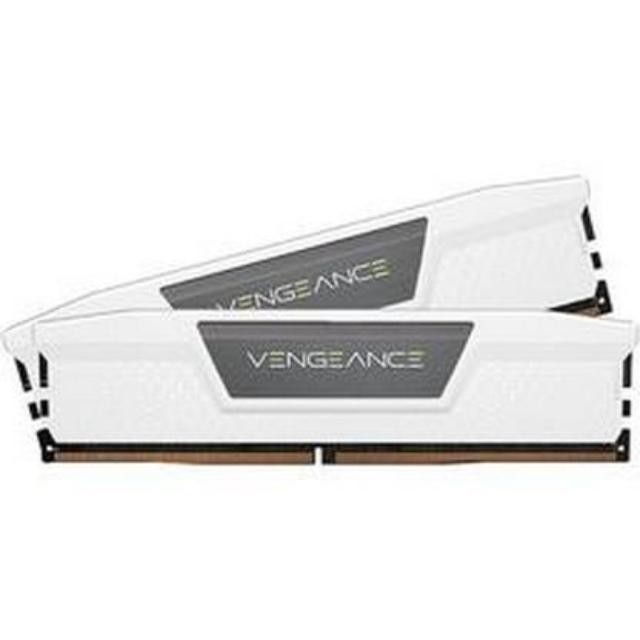RAM: (0, 175, 640, 473)
